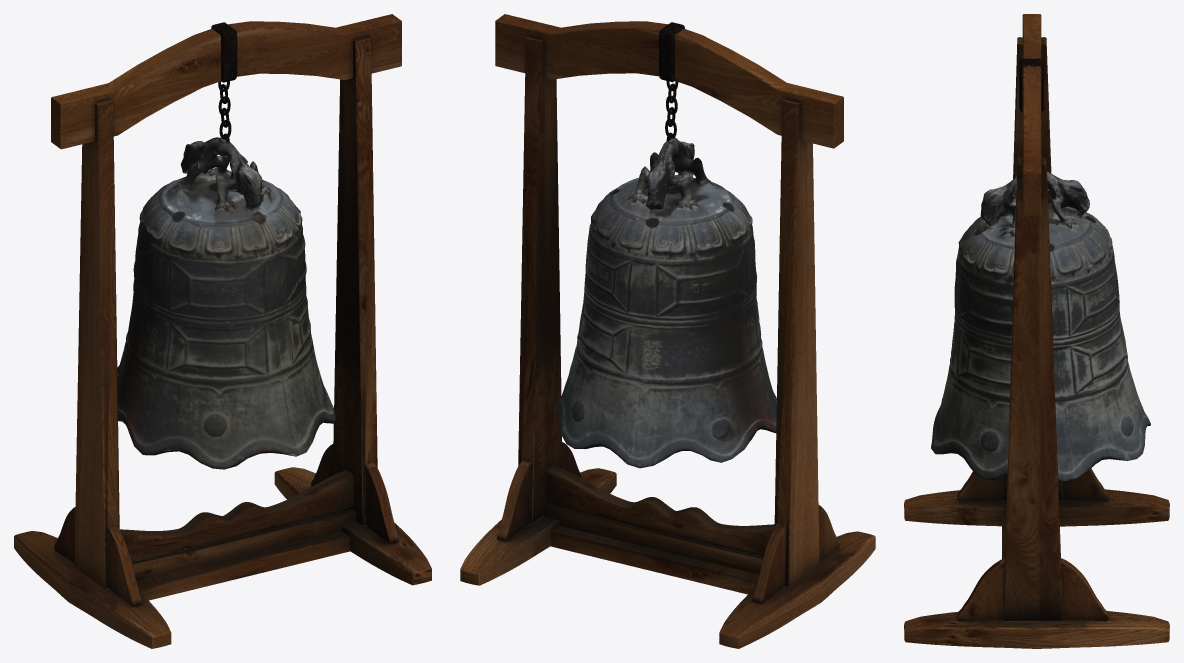
File: bellandchain.gltf
3 renders of one model, left to right at view 1: azimuth 30°, elevation 25°; view 2: azimuth 150°, elevation 25°; view 3: azimuth 270°, elevation 25°, orthographic. The views are drawn at different scales.
Parts seen in each view (by area): view 1: Object_4, Object_2, Object_3; view 2: Object_4, Object_2, Object_3; view 3: Object_4, Object_2, Object_3.
Part boxes in pixels (x1,y1,x2,y2): Object_4: (14,14,431,648); Object_2: (117,137,335,469); Object_3: (211,22,237,142); Object_4: (460,14,875,648); Object_2: (554,137,776,468); Object_3: (659,22,684,140); Object_4: (904,14,1169,648); Object_2: (931,171,1150,481); Object_3: (1019,58,1044,111).
Bounding box in the file's own units: 11.36 × 17.15 × 8.02.
Materials: 3 (3 with a texture image).
